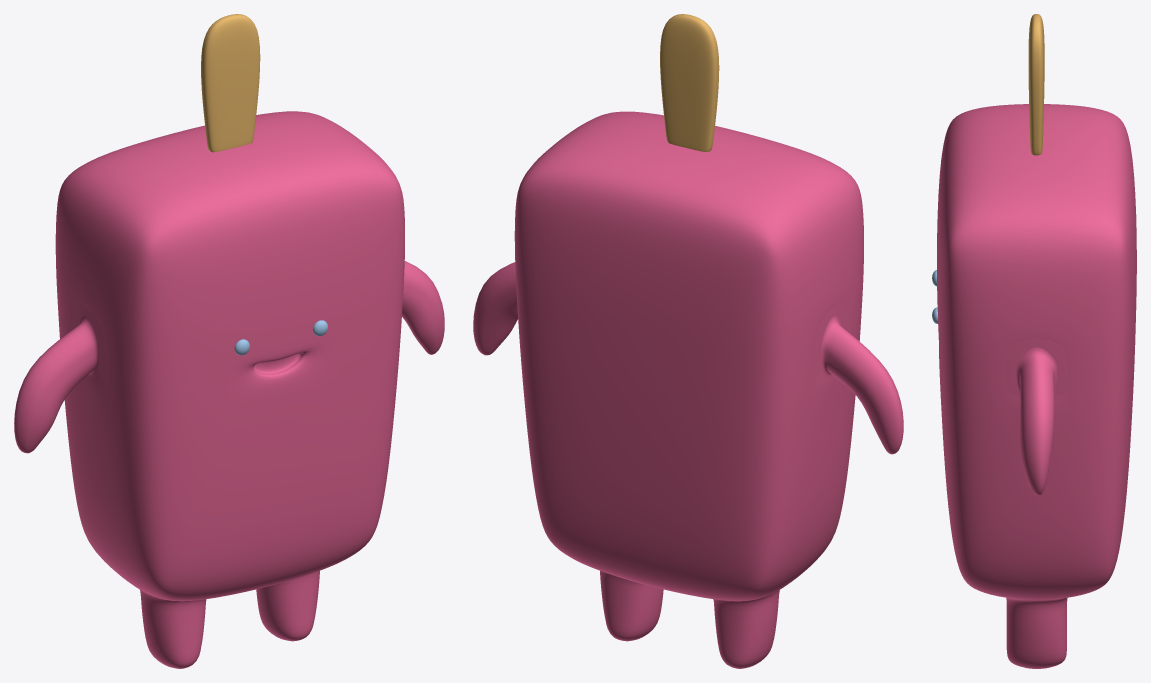
The model's file is IceCream.fbx.
The picture shows the model from 3 angles, left to right: view 1: azimuth 30°, elevation 25°; view 2: azimuth 150°, elevation 25°; view 3: azimuth 270°, elevation 25°; orthographic projection. The views are drawn at different scales.
Parts seen in each view (by area): view 1: Cube, Plane; view 2: Cube, Plane; view 3: Cube, Plane.
Boxes of the visible parts, x1,y1,x2,y2 form: Cube: (14,111,444,668); Plane: (201,14,260,152); Cube: (473,111,903,668); Plane: (660,14,719,151); Cube: (937,104,1136,668); Plane: (1028,14,1044,155).
Size of the model in its own units: 329 by 467 by 139.
